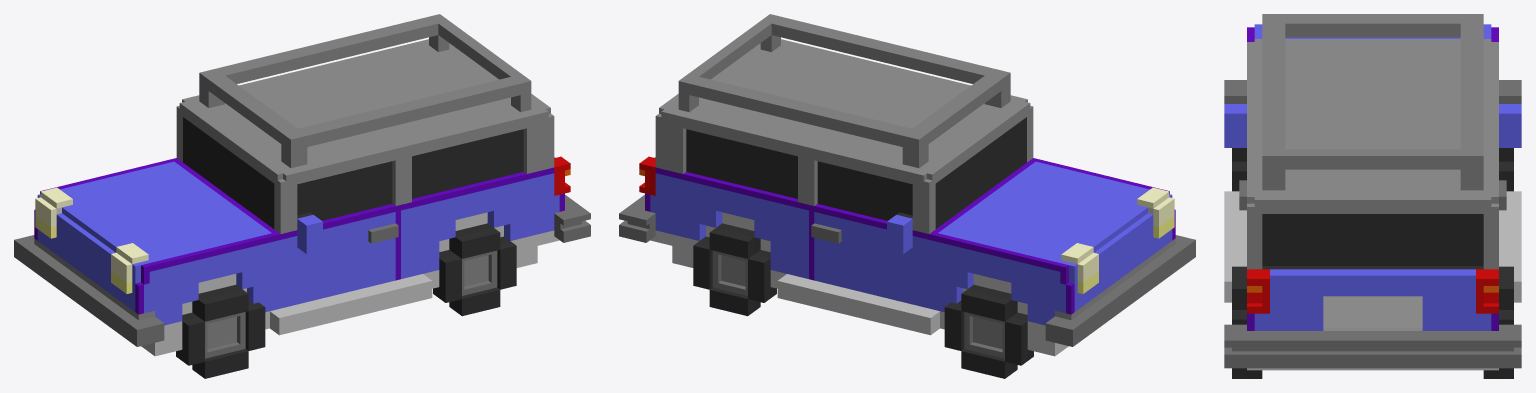
The model's file is car-2.obj.
The picture shows the model from 3 angles, left to right: view 1: azimuth 30°, elevation 25°; view 2: azimuth 150°, elevation 25°; view 3: azimuth 270°, elevation 25°; orthographic projection. The views are drawn at different scales.
Bounding box in the file's own units: 8.3 × 3.6 × 3.9.
1 material, 1 textured.
